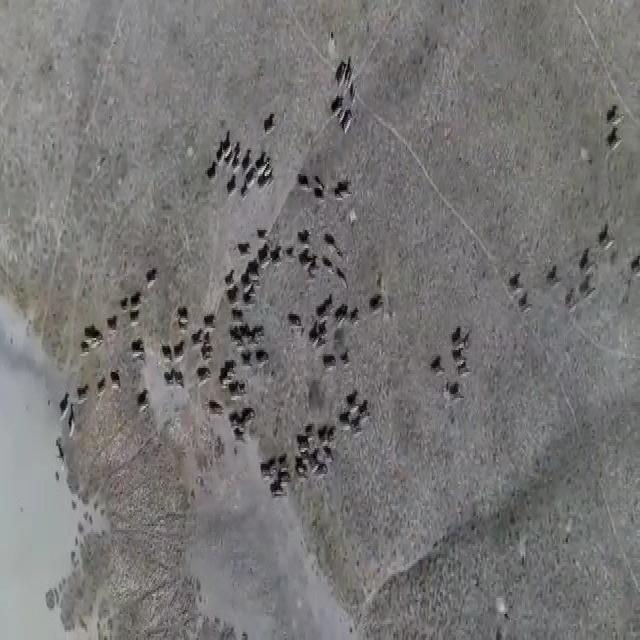Zebra: (348, 44, 362, 90), (194, 356, 211, 392), (596, 228, 617, 255), (542, 259, 560, 289), (507, 272, 523, 303), (334, 175, 352, 199), (256, 346, 270, 376), (272, 484, 291, 506), (110, 368, 123, 399), (210, 398, 224, 426), (165, 367, 178, 397), (457, 366, 477, 385), (324, 352, 342, 373), (430, 358, 443, 386), (288, 322, 306, 342), (449, 388, 465, 410), (76, 384, 89, 410), (85, 330, 102, 349), (296, 458, 308, 484), (264, 454, 278, 476), (222, 368, 233, 396), (242, 170, 256, 192), (132, 342, 144, 366), (221, 139, 233, 163), (334, 60, 345, 86), (370, 298, 383, 320), (231, 274, 239, 309), (342, 110, 355, 131), (330, 93, 342, 115), (318, 463, 338, 476), (146, 273, 158, 294), (322, 236, 336, 254), (338, 416, 351, 435), (610, 107, 625, 123), (315, 179, 325, 203), (127, 308, 144, 322), (299, 249, 313, 266), (56, 448, 69, 466), (232, 324, 239, 357), (585, 259, 597, 278), (137, 398, 153, 412), (612, 132, 622, 154), (242, 358, 254, 375), (298, 429, 308, 449), (250, 264, 260, 284), (455, 335, 467, 351), (274, 242, 282, 266), (205, 313, 215, 332), (263, 247, 271, 269), (232, 414, 244, 428), (59, 398, 67, 418), (336, 313, 346, 328), (65, 428, 77, 440), (634, 255, 640, 278), (324, 262, 332, 277), (300, 175, 309, 188), (257, 326, 263, 345), (99, 378, 106, 394), (177, 349, 186, 361), (248, 412, 259, 420), (194, 329, 200, 343), (214, 158, 224, 158)
